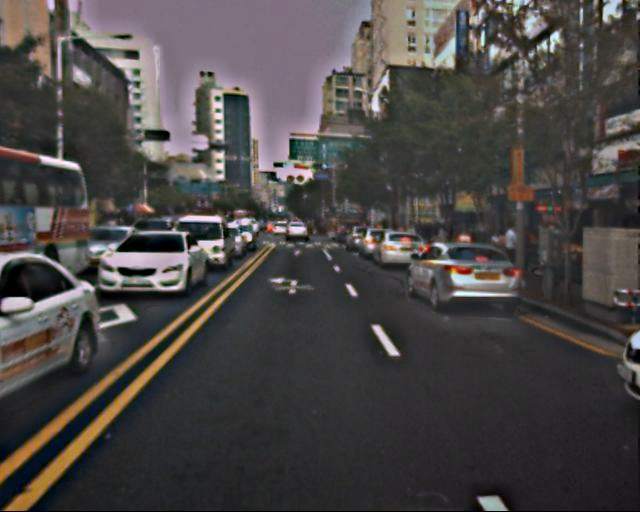person: (499, 222, 522, 279)
